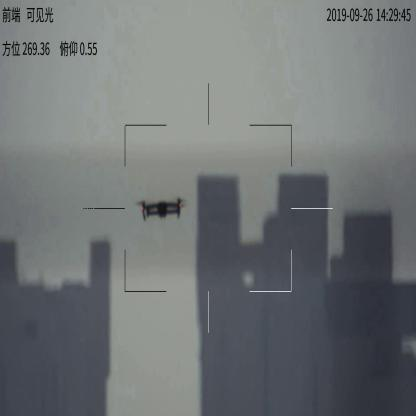uav: (131, 196, 192, 220)
